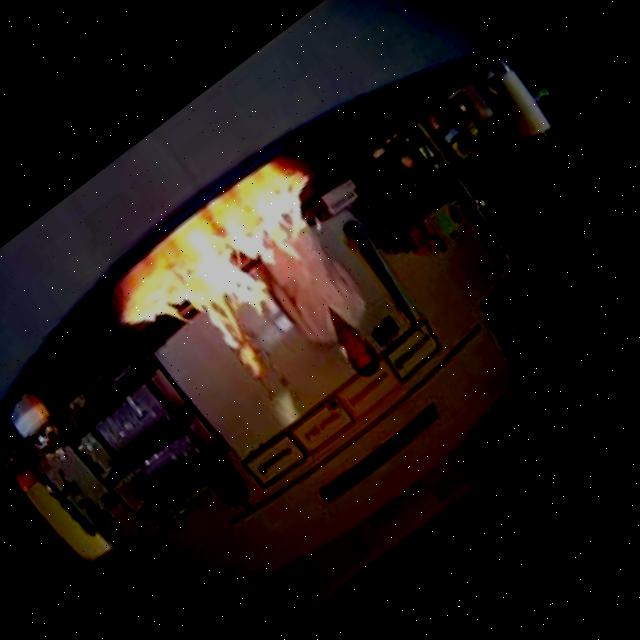Fire: (110, 167, 399, 433)
